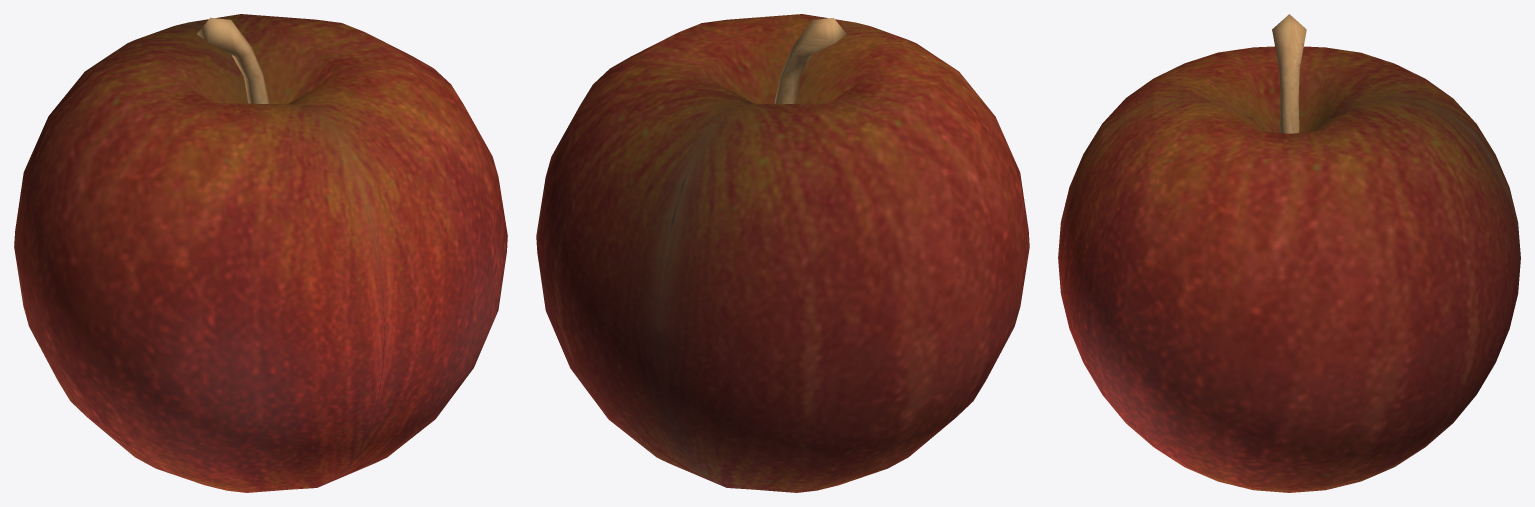
The model's file is Apple_Red.fbx.
3 views of the same model, side by side, from view 1: azimuth 30°, elevation 25°; view 2: azimuth 150°, elevation 25°; view 3: azimuth 270°, elevation 25° (orthographic). The views are drawn at different scales.
Visible parts, largest first — view 1: Object001; view 2: Object001; view 3: Object001.
Part boxes in pixels (bbox=[...]): Object001: bbox=[14, 14, 507, 492]; Object001: bbox=[536, 14, 1029, 492]; Object001: bbox=[1058, 14, 1520, 492].
Size of the model in its own units: 73.37 by 73.44 by 74.63.
